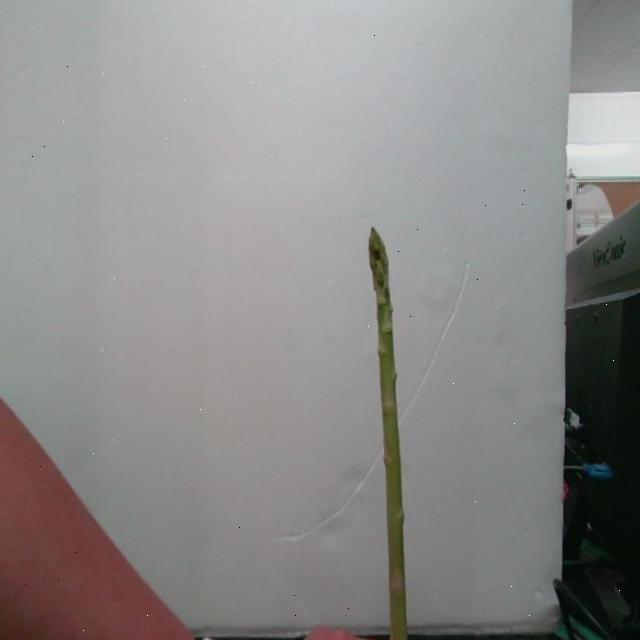aspargus: (369, 229, 410, 640)
